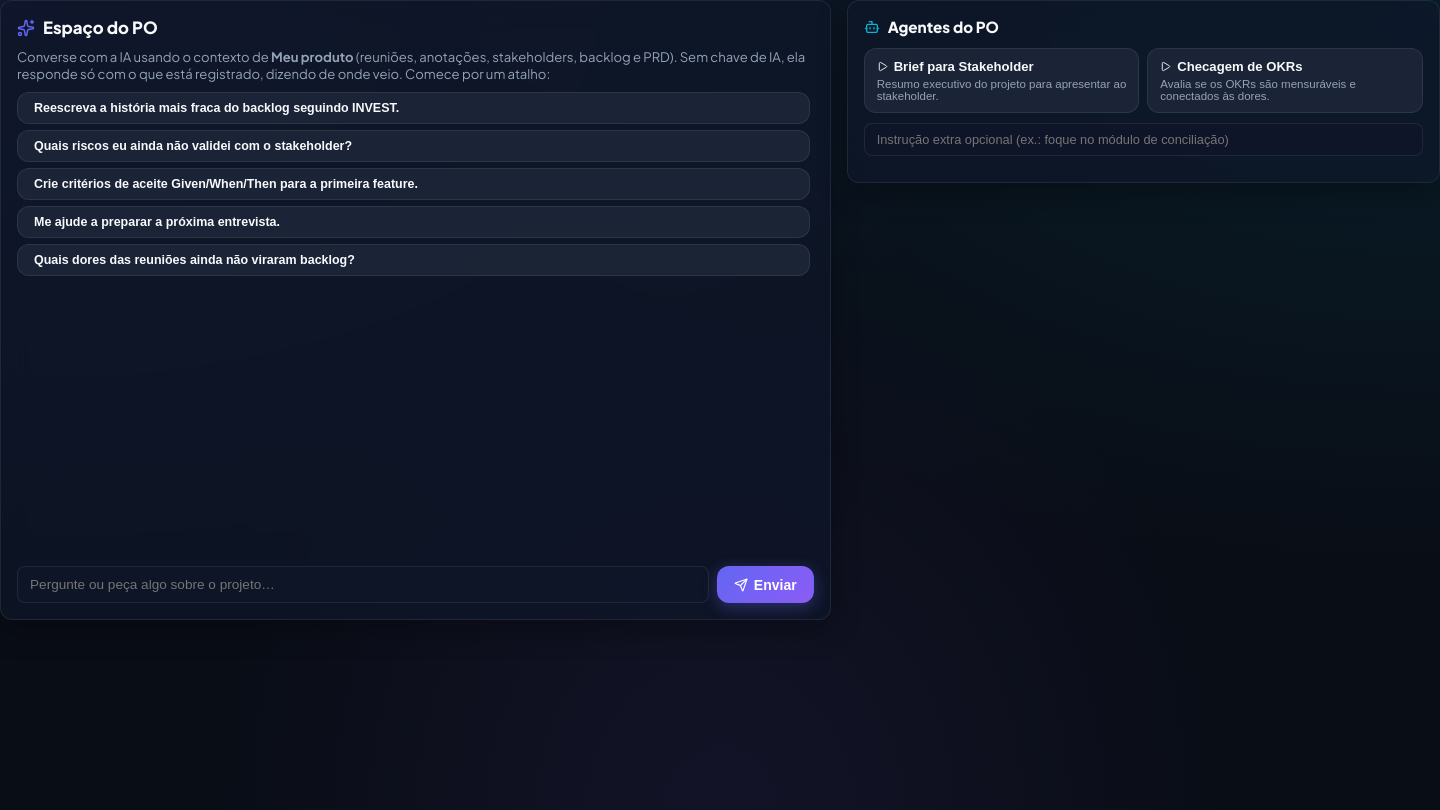
POSpaceView: chat sem chave de IA › responde com o que o projeto tem registrado e avisa que não foi a IA
Type "O que o diretor quer do relatório?" into the field with placeholder "Pergunte ou peça algo sobre o projeto…".
click(363, 584); type("O que o diretor quer do relatório?")  # box [17,566,709,603]
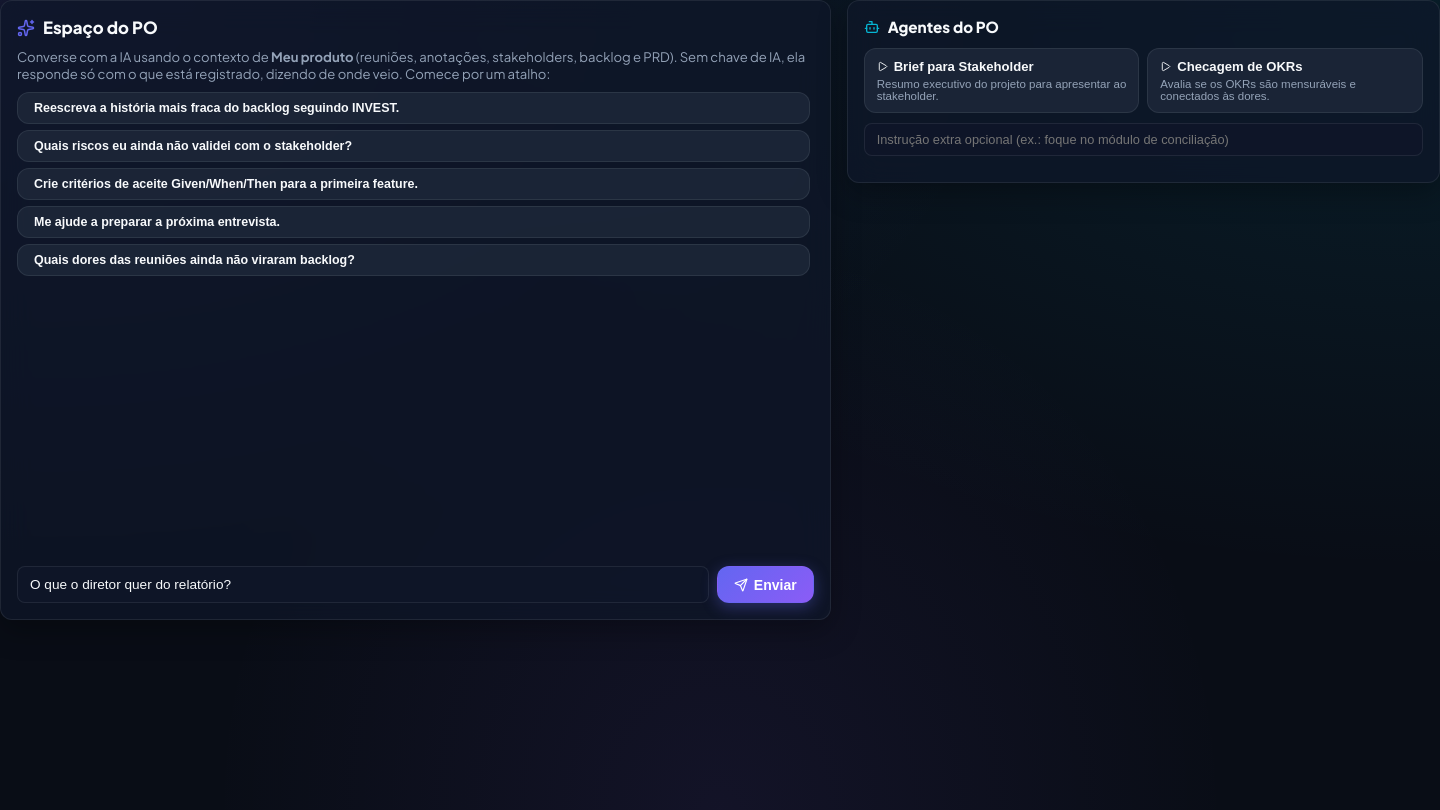
Click the button "Enviar".
click(765, 584)  # box [717,566,814,603]
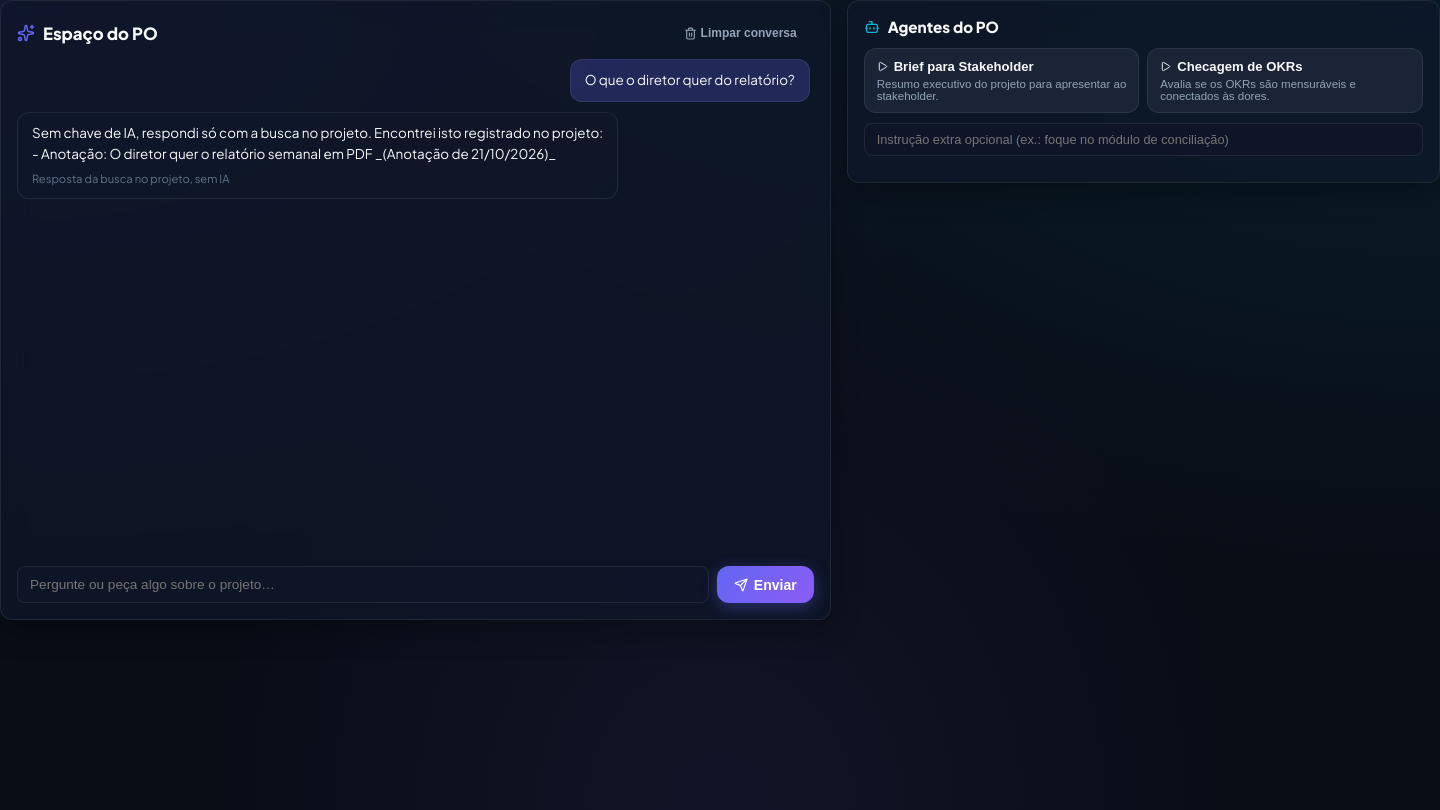
expect the text "O diretor quer o relatório semanal em PDF" is shown: met, box [32,124,603,162]
expect the text "Resposta da busca no projeto, sem IA" is shown: met, box [32,172,230,186]
